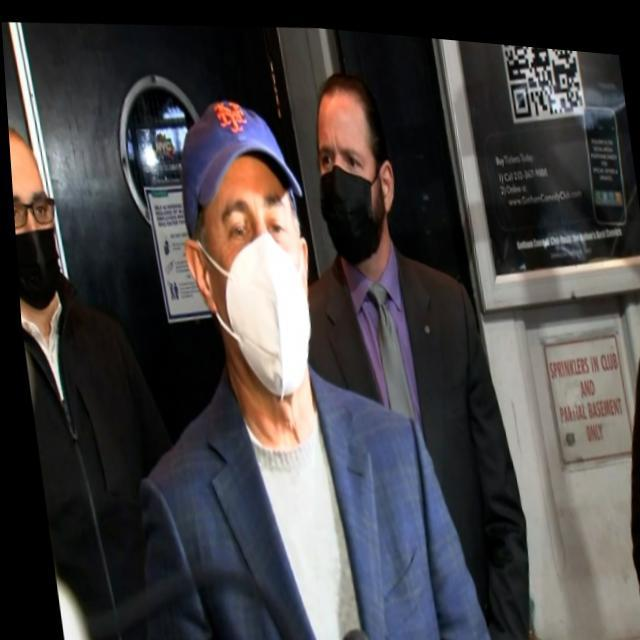Nonhelmet: (292, 57, 412, 270)
